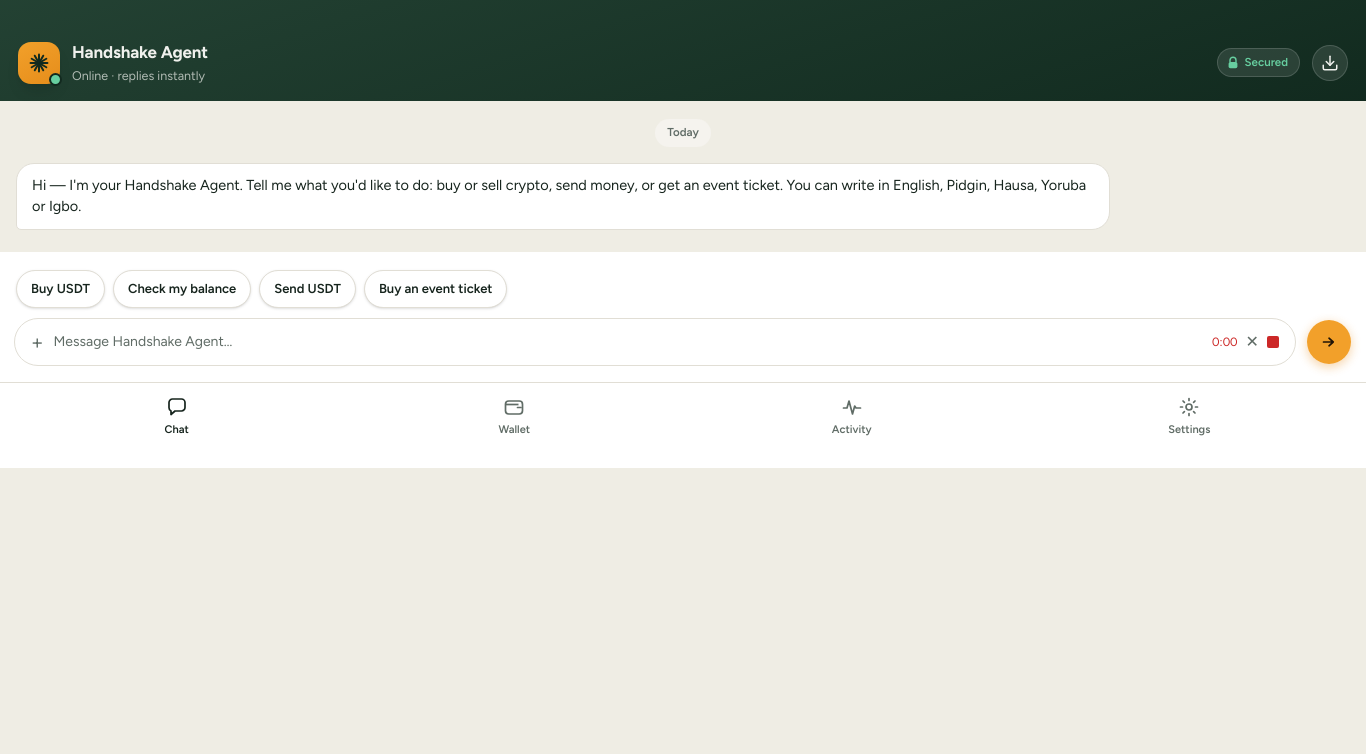
Test: MobileShell › WalletTab quick action switches to chat and sends the message (mock/anonymous)
// Switch to Wallet tab
What coordinates should you click on to do the following:
click the button "Wallet"
I would click on:
 (514, 417)
Its box is [346,392,683,442].
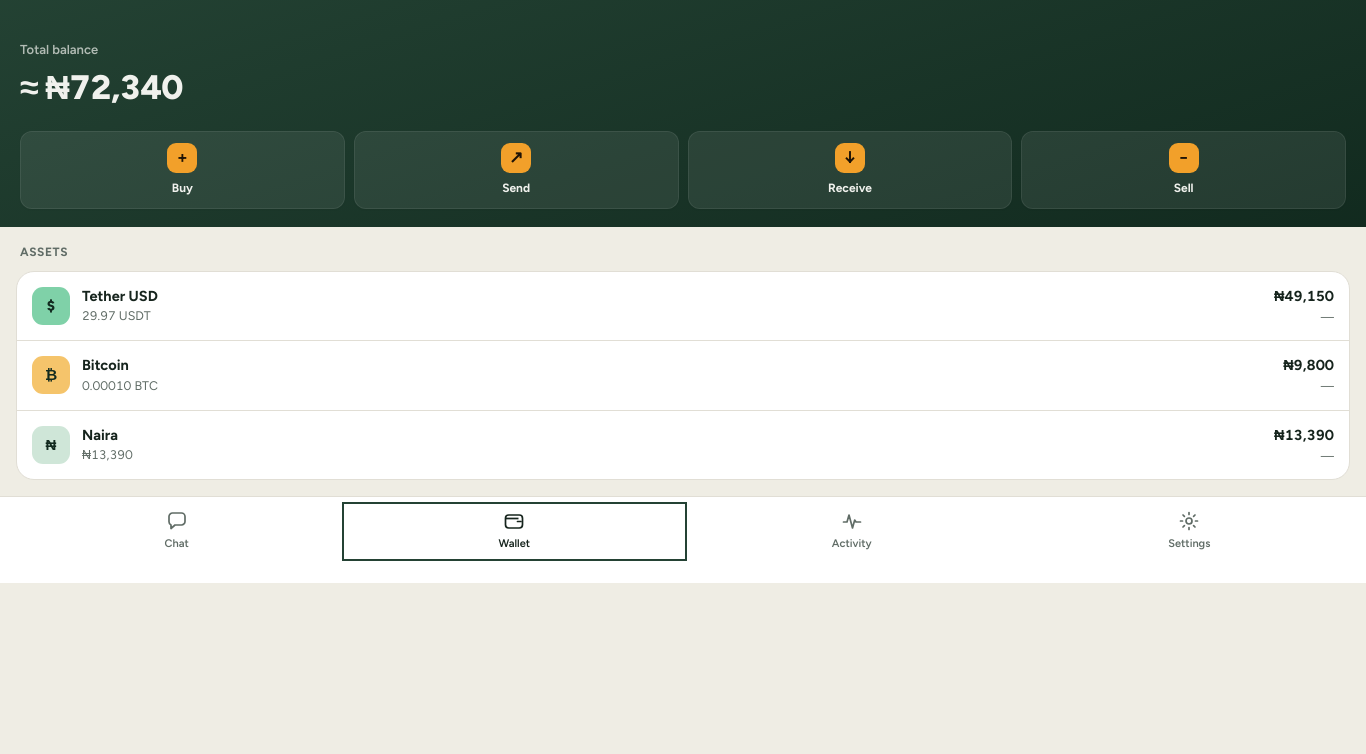
What coordinates should you click on to do the following:
click the button "+ Buy"
I would click on:
 (182, 170)
Its box is [20,130,345,208].
(page scrolled)
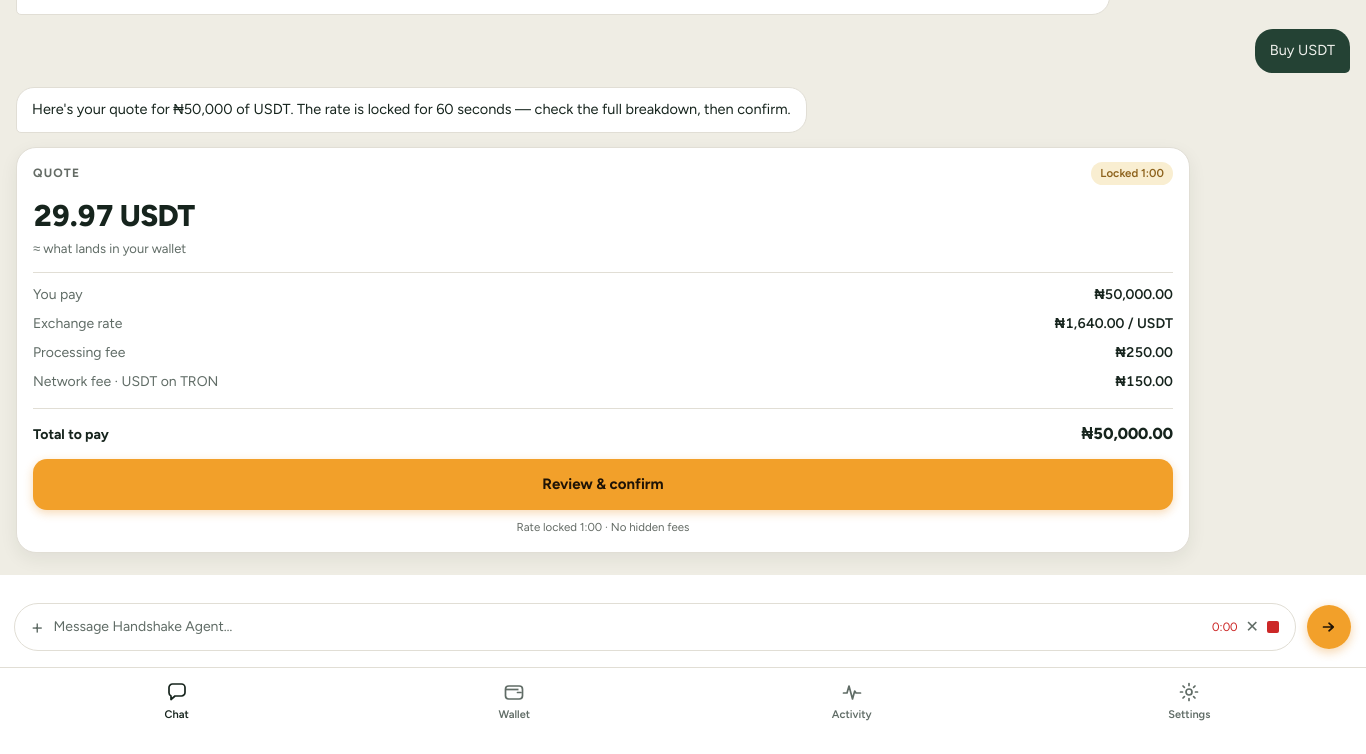
Check: the text "Buy USDT" is shown, box [1255,29,1350,73]
